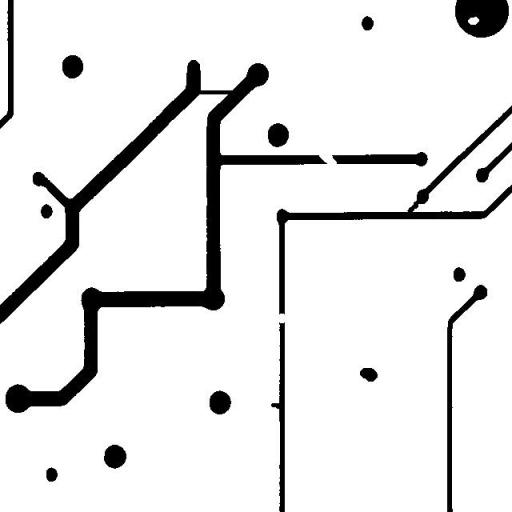copper: (352, 360, 385, 389)
open: (311, 144, 344, 174), (270, 306, 294, 330)
pin-hole: (460, 9, 486, 32)
short: (187, 82, 240, 102), (399, 192, 427, 223)
spur: (263, 395, 289, 416)
